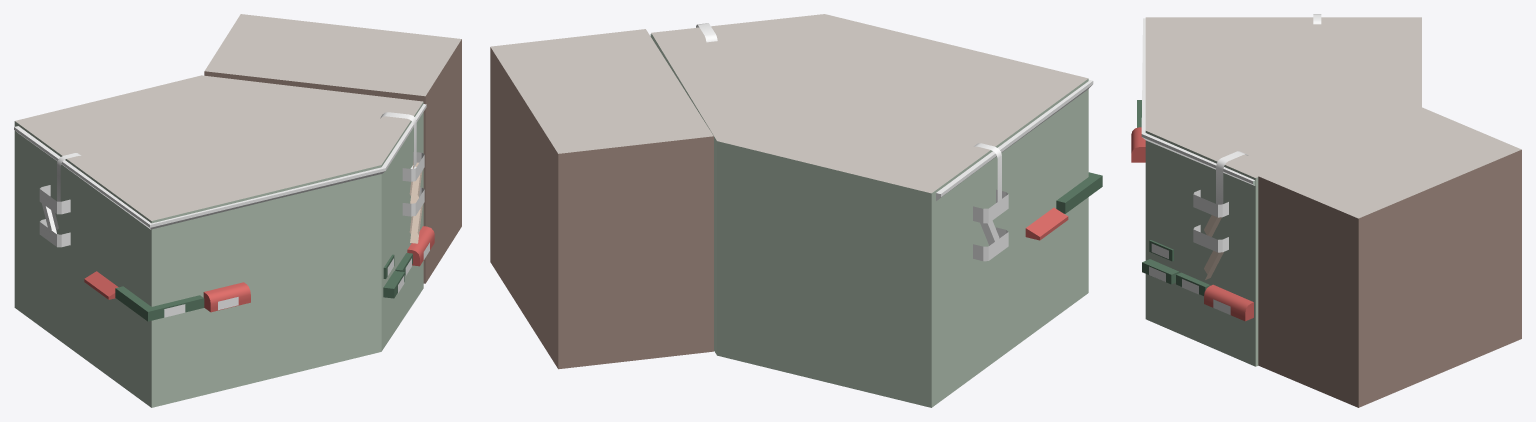
File: chinatown_corner2.dae
3 renders of one model, left to right at view 1: azimuth 30°, elevation 25°; view 2: azimuth 150°, elevation 25°; view 3: azimuth 270°, elevation 25°, orthographic. The views are drawn at different scales.
Parts seen in each view (by area): view 1: chinatown_corner2_a200, chinatown_corner2_a1000; view 2: chinatown_corner2_a200, chinatown_corner2_a1000; view 3: chinatown_corner2_a200, chinatown_corner2_a1000.
Part boxes in pixels (bbox=[...]): chinatown_corner2_a200: bbox=[14, 14, 461, 407]; chinatown_corner2_a1000: bbox=[14, 104, 434, 321]; chinatown_corner2_a200: bbox=[490, 14, 1088, 407]; chinatown_corner2_a1000: bbox=[650, 23, 1102, 261]; chinatown_corner2_a200: bbox=[1145, 17, 1521, 407]; chinatown_corner2_a1000: bbox=[1131, 14, 1321, 321].
Size of the model in its own units: 38.69 by 30.3 by 16.43.
